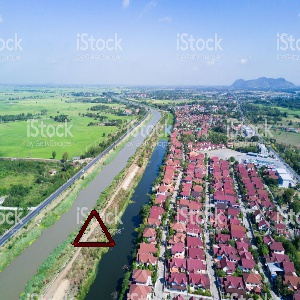triangle: (69, 205, 117, 250)
